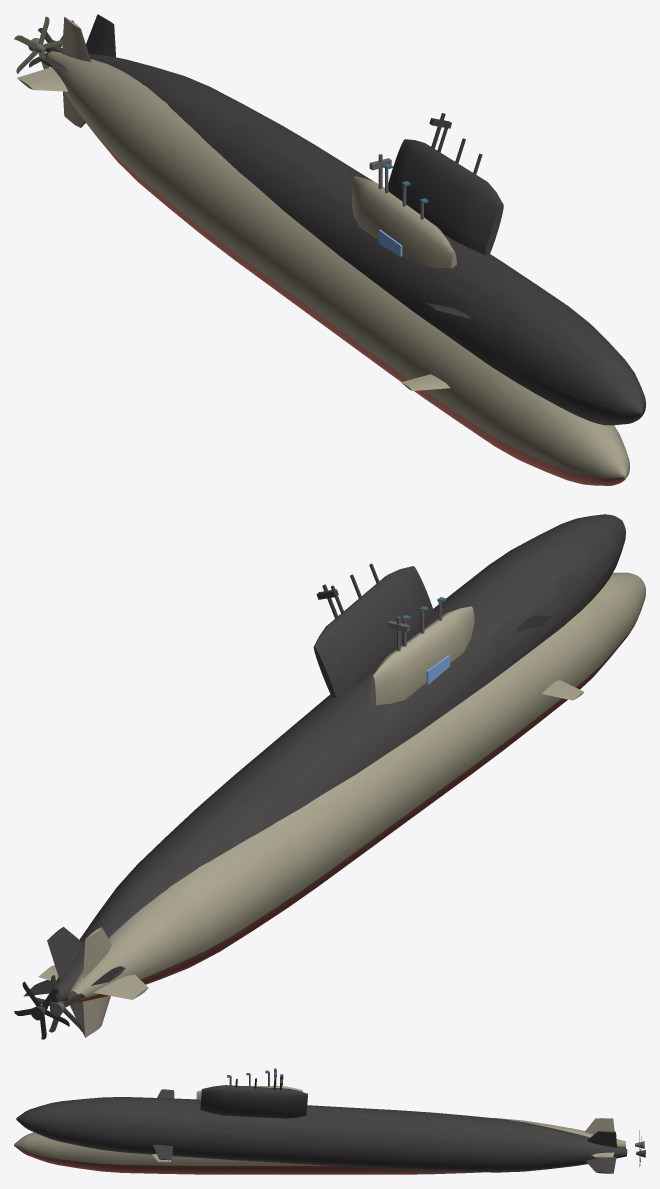
Rendered from submarine__fateh_class.glb.
The picture shows the model from 3 angles, top to bottom: view 1: azimuth 30°, elevation 25°; view 2: azimuth 150°, elevation 25°; view 3: azimuth 270°, elevation 25°; orthographic projection. The views are drawn at different scales.
Visible parts, largest first — view 1: Hull_Mesh, Wreck; view 2: Hull_Mesh, Wreck; view 3: Wreck, Hull_Mesh.
Part boxes in pixels (x1=…): Hull_Mesh: x1=14, y1=16, x2=629, y2=485; Wreck: x1=29, y1=14, x2=645, y2=425; Hull_Mesh: x1=36, y1=572, x2=645, y2=1037; Wreck: x1=14, y1=514, x2=625, y2=1039; Wreck: x1=16, y1=1074, x2=645, y2=1173; Hull_Mesh: x1=14, y1=1070, x2=644, y2=1174.
Size of what is drawn, in the model's own units: 7.9 by 9.5 by 47.59.
